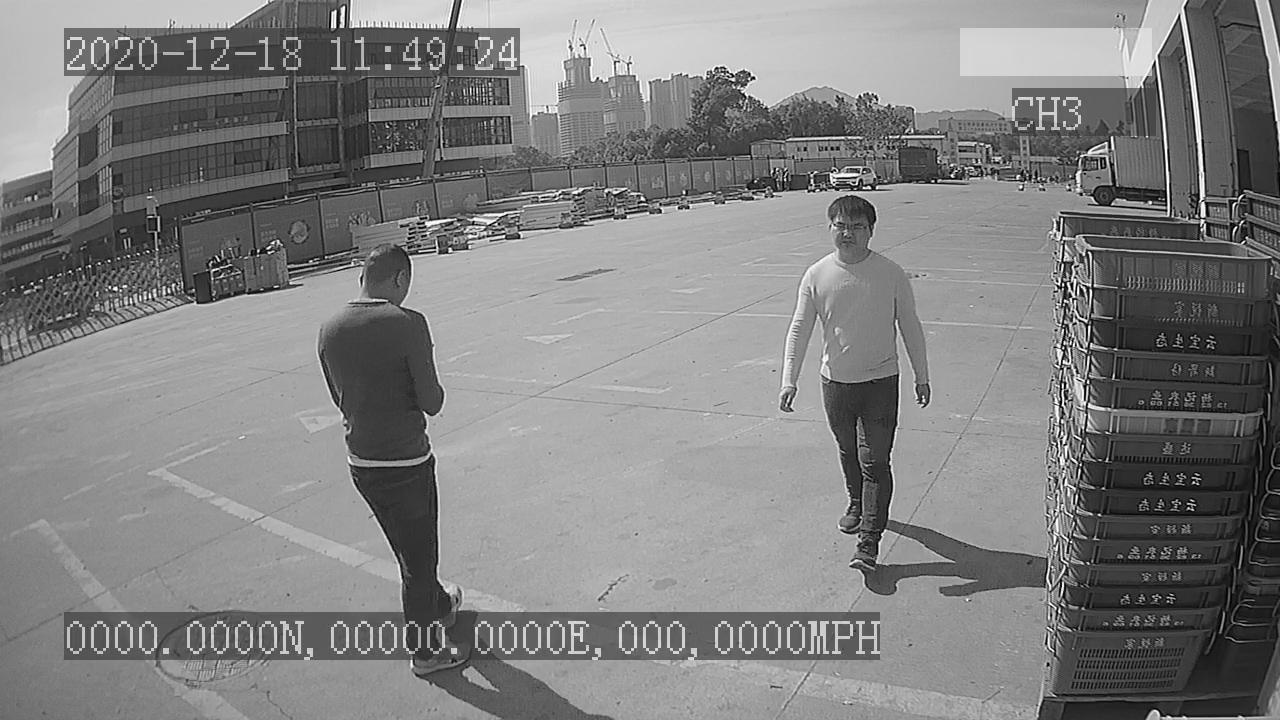person: (774, 194, 934, 583)
